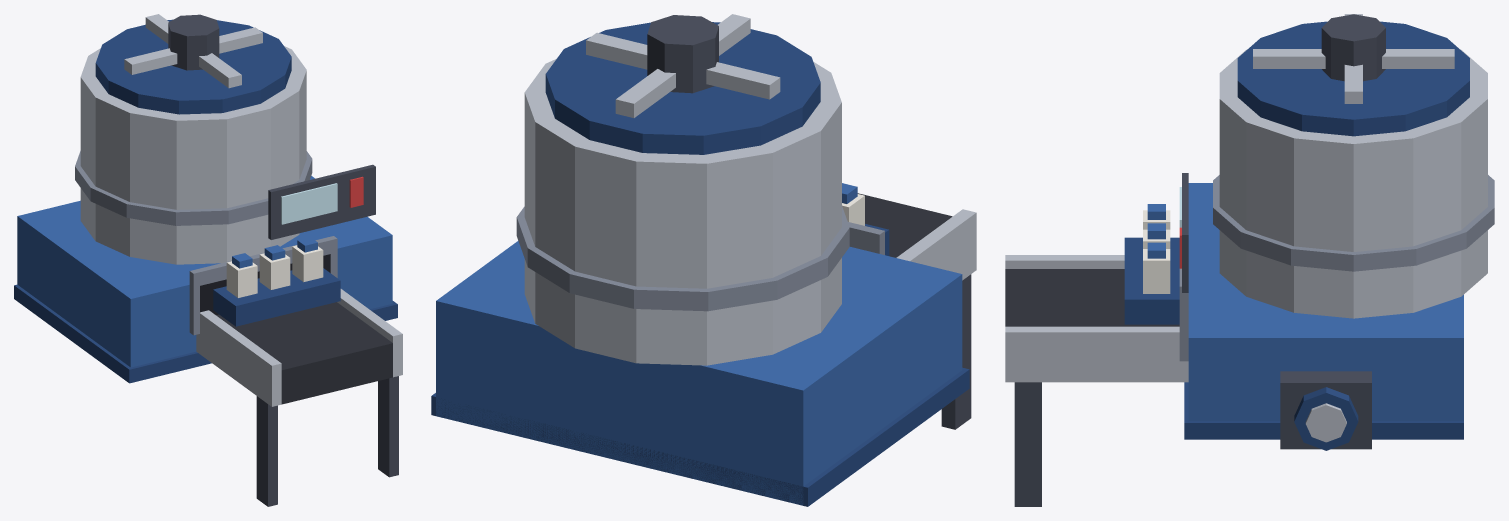
File: milk-vat.glb
3 views of the same model, side by side, from view 1: azimuth 30°, elevation 25°; view 2: azimuth 150°, elevation 25°; view 3: azimuth 270°, elevation 25° (orthographic). The views are drawn at different scales.
Parts seen in each view (by area): view 1: milk-vat, spin-up; view 2: milk-vat, spin-up; view 3: milk-vat, spin-up.
Part boxes in pixels (box(x1,y1,x2,y2)): milk-vat: box(14, 14, 402, 506); spin-up: box(124, 14, 262, 88); milk-vat: box(431, 15, 976, 506); spin-up: box(586, 14, 780, 117); milk-vat: box(1005, 14, 1494, 506); spin-up: box(1253, 14, 1454, 103).
Size of the model in its own units: 0.91 by 1.06 by 1.07.
Materials: 2 (2 with a texture image).
